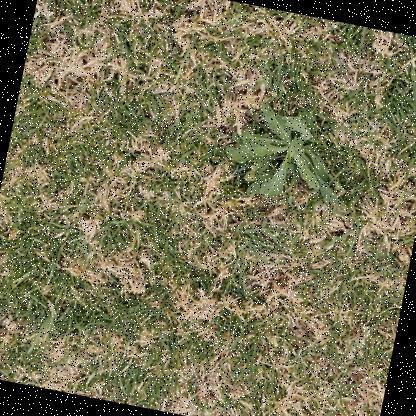Weeds: (217, 84, 364, 218)
